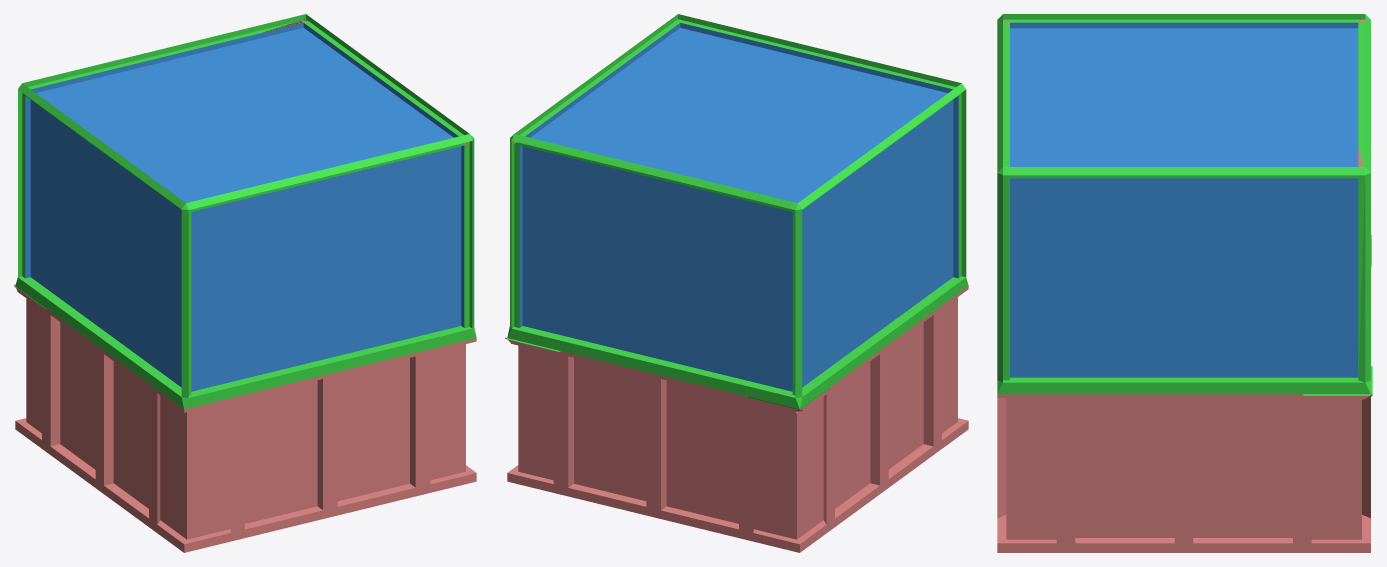
File: DisplayCase.fbx
3 views of the same model, side by side, from view 1: azimuth 30°, elevation 25°; view 2: azimuth 150°, elevation 25°; view 3: azimuth 270°, elevation 25° (orthographic). The views are drawn at different scales.
Visible parts, largest first — view 1: Cube; view 2: Cube; view 3: Cube.
Boxes of the visible parts, left/top/right/bottom form: Cube: left=14, top=14, right=476, bottom=552; Cube: left=505, top=14, right=968, bottom=552; Cube: left=997, top=14, right=1372, bottom=552.
Bounding box in the file's own units: 151 × 170 × 151.
